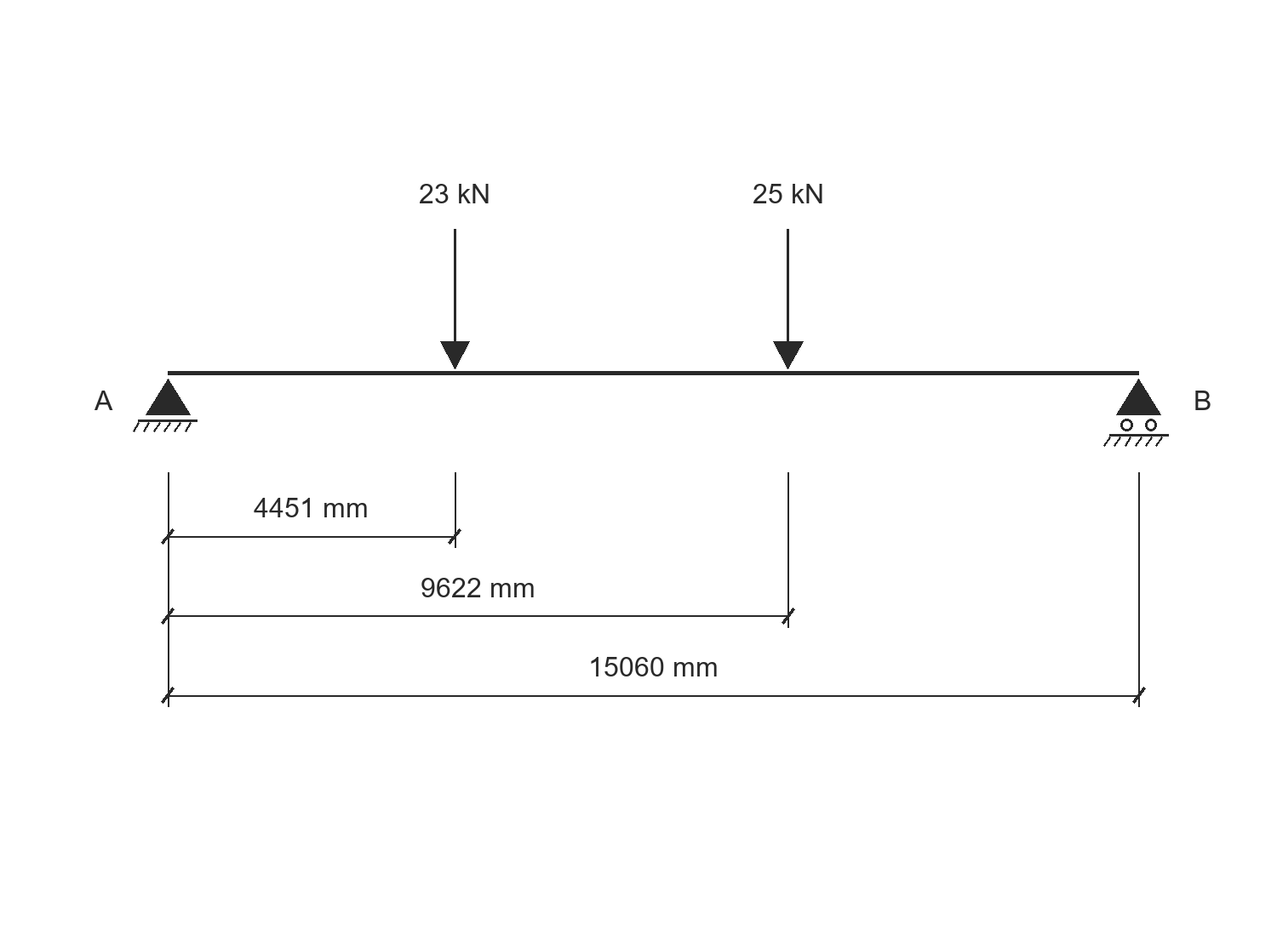pin_support: (133, 379, 198, 432)
point_load: (773, 229, 804, 369), (440, 229, 470, 369)
roller_support: (1103, 379, 1169, 447)
